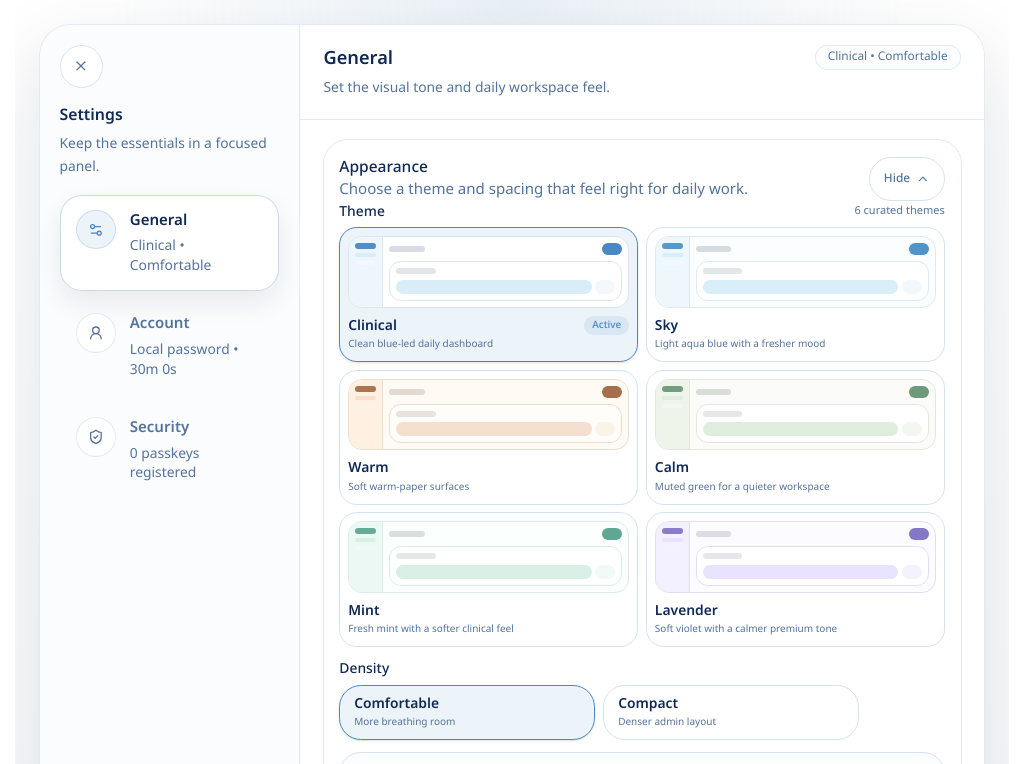
Test case: SettingsContent panels › opens the account panel from navigation
Click the button "Account Local password • 30m 0s" at (169, 346), box [60,299,279,394]
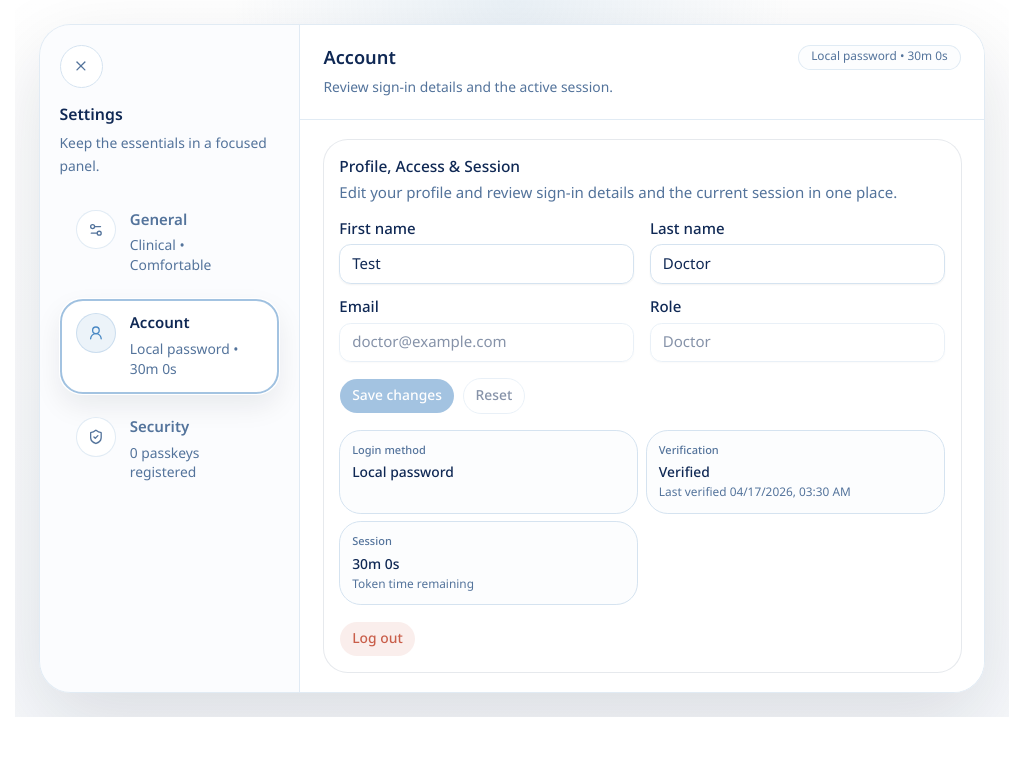
Result: the text "Edit your profile and review sign-in details and the current session in one place." is shown at [339,182,897,205]
Result: the field labelled "First name" holds "Test" at [339,244,634,284]
Result: the field labelled "Last name" holds "Doctor" at [650,244,945,284]
